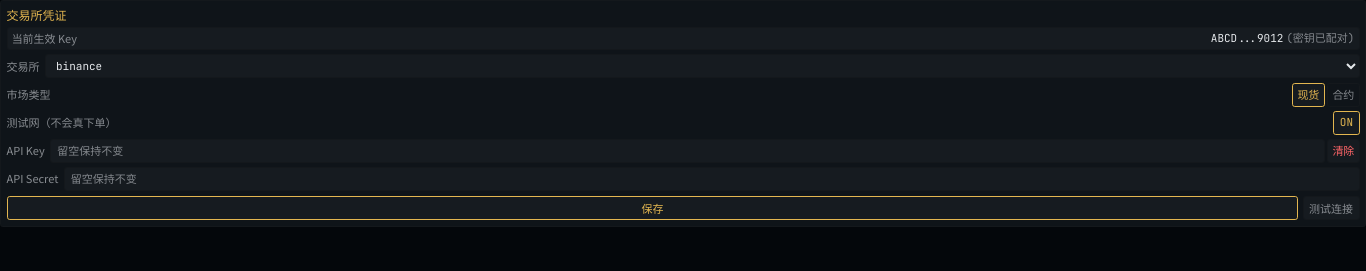
Scenario: ExchangeSettingsPanel › probes stored credentials and surfaces the account summary
The image size is (1366, 271).
Click the button "测试连接".
click(1331, 208)  # box x1=1302 y1=196 x2=1360 y2=220
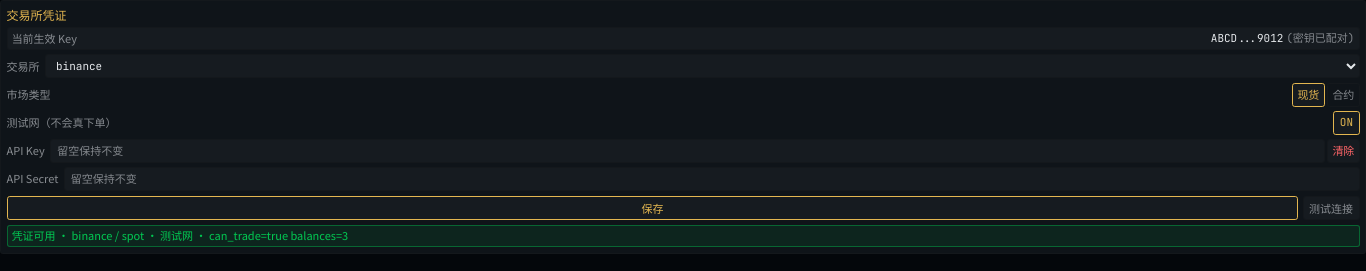
Check: the text "凭证可用 · binance / spot · 测试网 · can_trade=true balances=3" is shown, box x1=6 y1=225 x2=1360 y2=248
